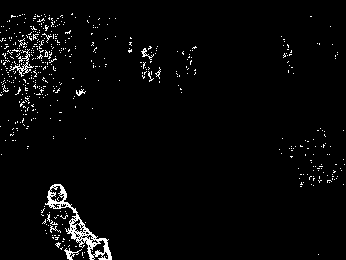person: (43, 182, 113, 260)
